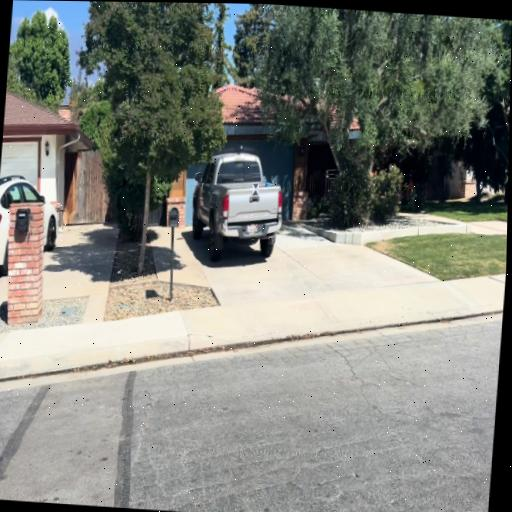target1: (252, 183, 259, 195)
